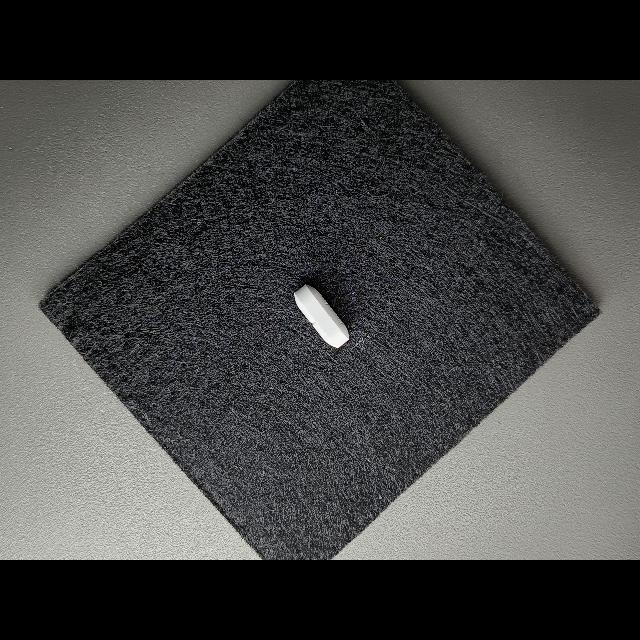Intact Pill: (294, 284, 349, 348)
